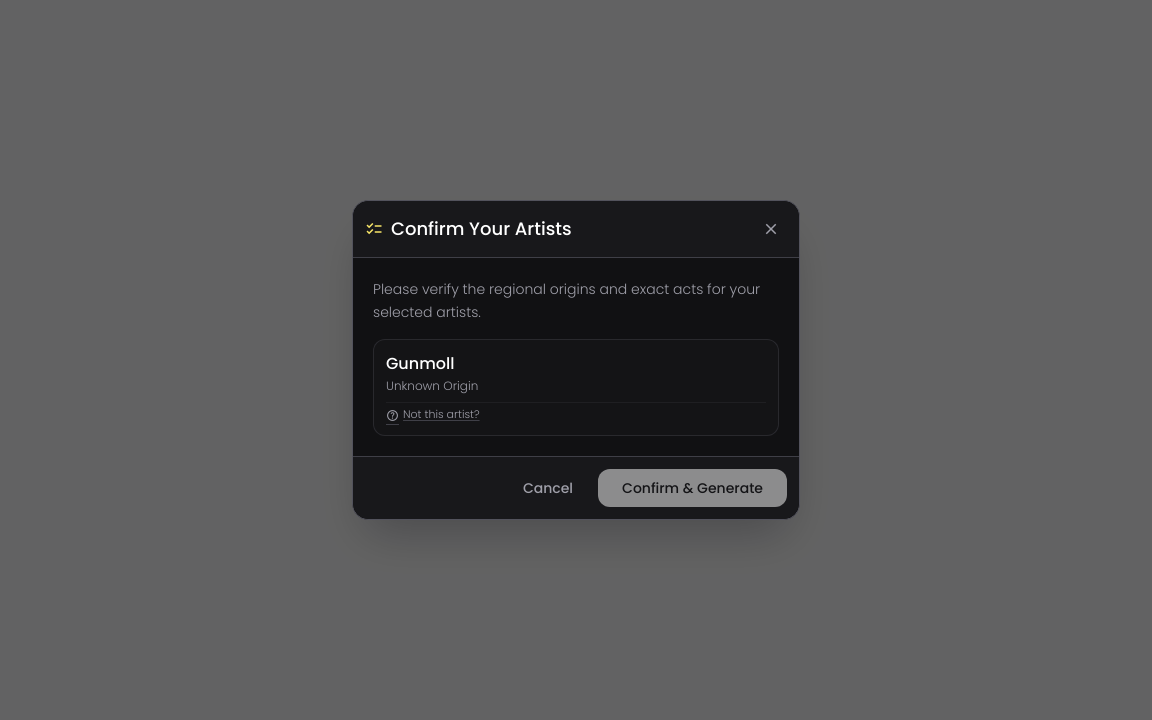
Test case: V15 Core Regression Suite (Integration) › Re-Query Bouncer: Unlocks Confirm & Generate when Flash verifies valid escape hatch override parameters
Expected: the button with test id "validation-confirm-button" is disabled, top-left (598, 469), bottom-right (787, 507)
# User clicks "Not this artist?" escape hatch
Click the button "Not this artist?". click: point(433, 415)
box: top-left (386, 407), bottom-right (480, 423)
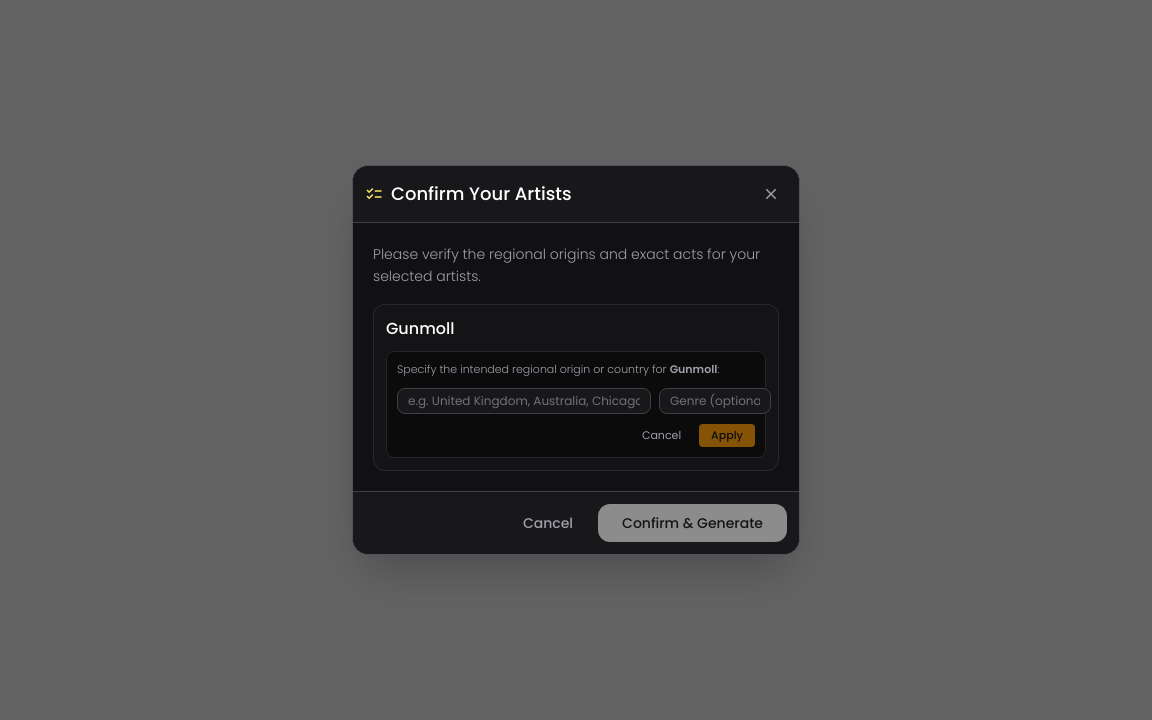
# User enters valid hints: "USA" and "Punk Rock"
Type "USA" into the field with placeholder "e.g. United Kingdom, Australia, Chicago...". click: point(524, 401)
box: top-left (397, 388), bottom-right (651, 414)
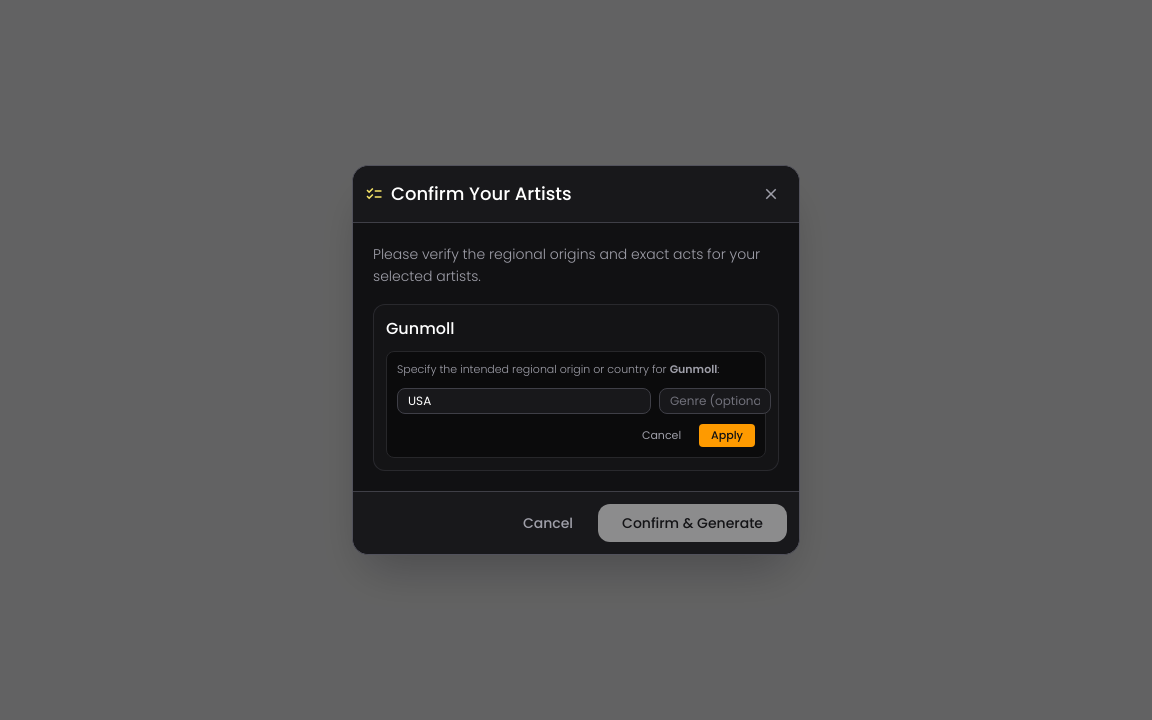
Type "Punk Rock" into the field with placeholder "Genre (optional)". click: point(715, 401)
box: top-left (659, 388), bottom-right (771, 414)
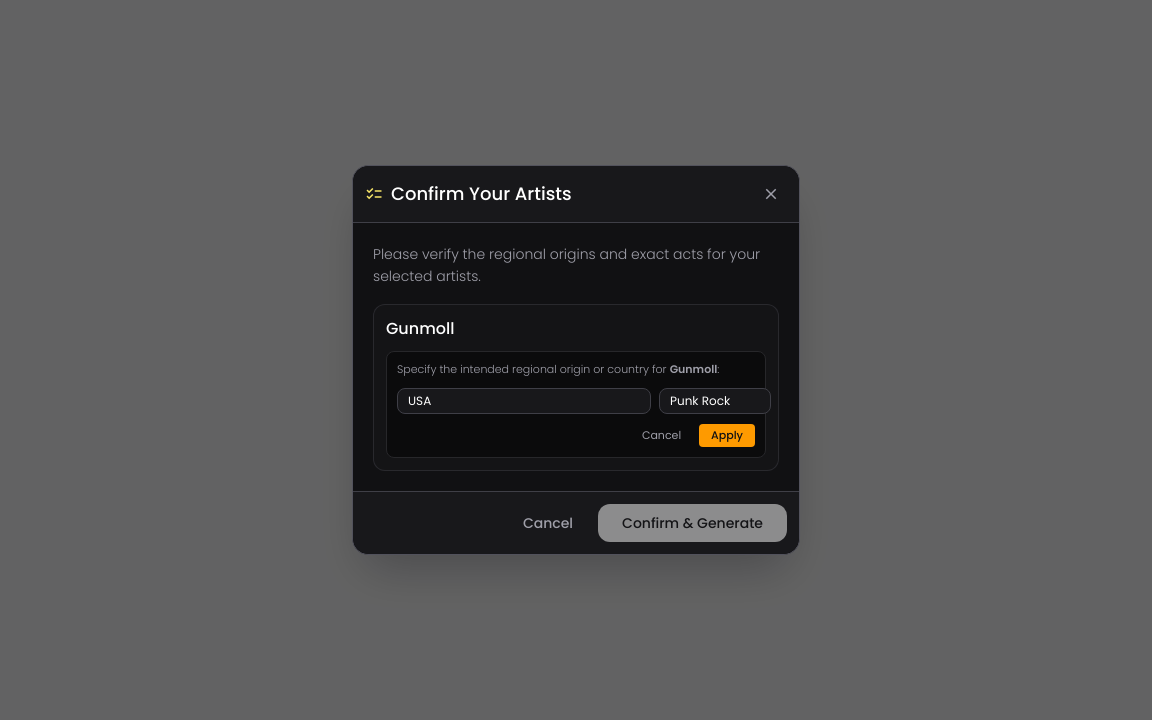
# User clicks "Apply"
Click the button "Apply". click: point(727, 436)
box: top-left (699, 424), bottom-right (755, 448)
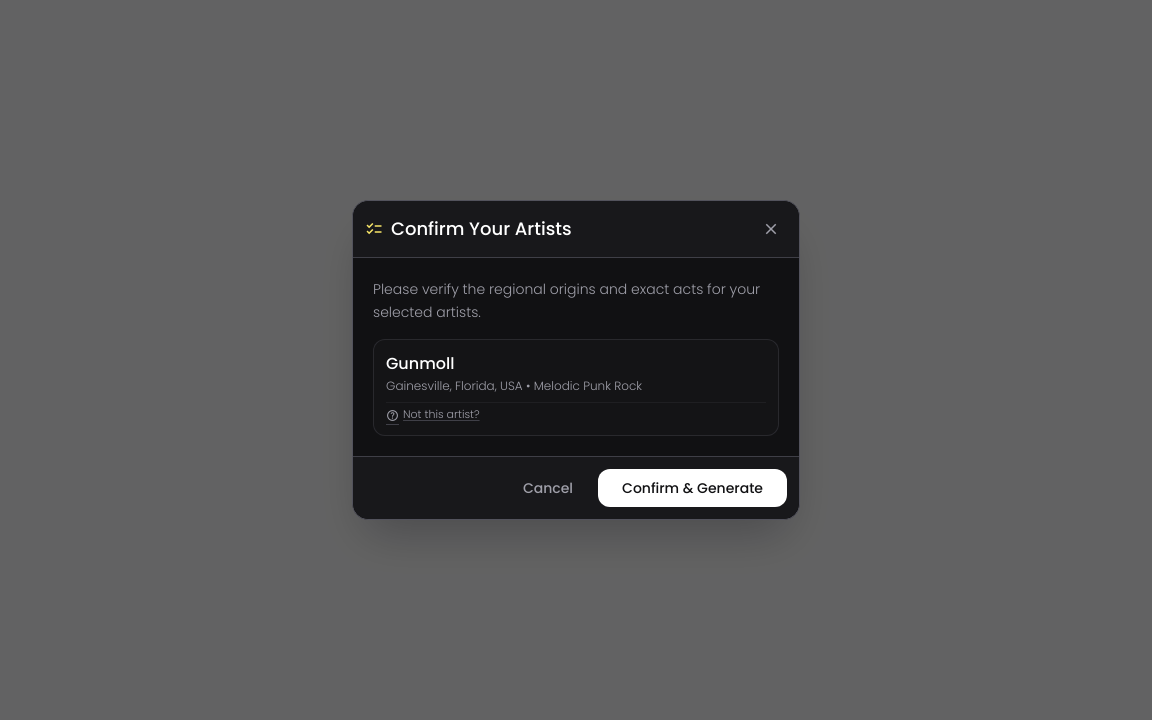
Now the text with test id "validation-origin-text" reads "Gainesville, Florida, USA • Melodic Punk Rock", box top-left (386, 377), bottom-right (642, 394)
Now the button with test id "validation-confirm-button" is enabled, box top-left (598, 469), bottom-right (787, 507)
